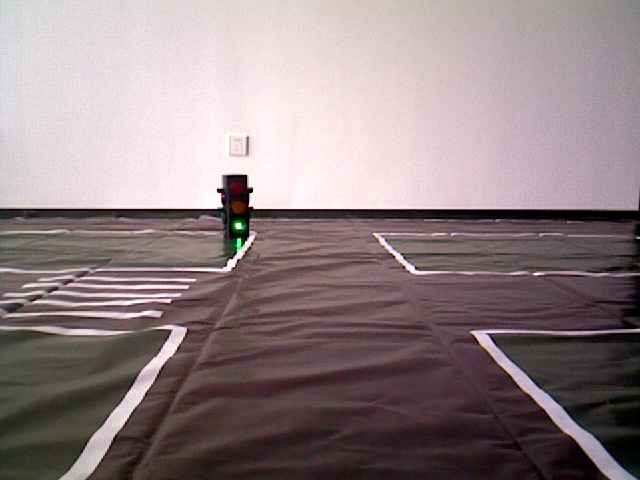green: (222, 176, 252, 231)
